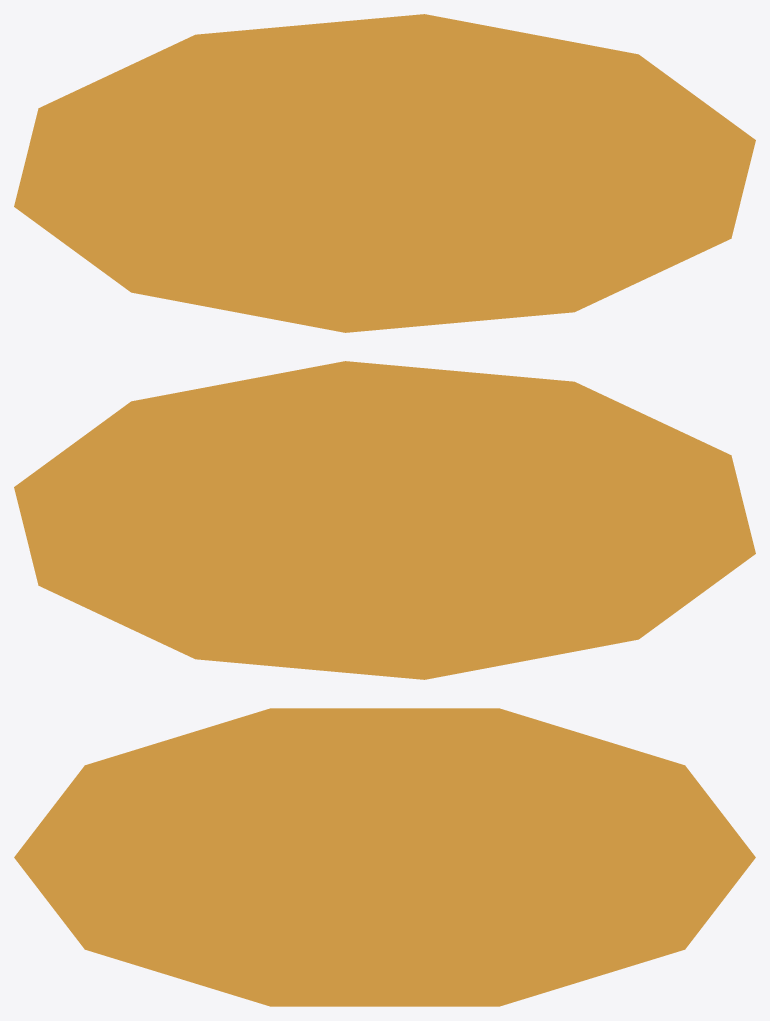
File: Soup.fbx
3 views of the same model, one above another, from view 1: azimuth 30°, elevation 25°; view 2: azimuth 150°, elevation 25°; view 3: azimuth 270°, elevation 25° (orthographic). The views are drawn at different scales.
Visible parts, largest first — view 1: Soup_Baking; view 2: Soup_Baking; view 3: Soup_Baking.
Boxes of the visible parts, bbox=[...] form: Soup_Baking: bbox=[14, 14, 755, 332]; Soup_Baking: bbox=[14, 361, 755, 679]; Soup_Baking: bbox=[14, 708, 755, 1006].
Size of the model in its own units: 190 by 3.26e-05 by 200.
